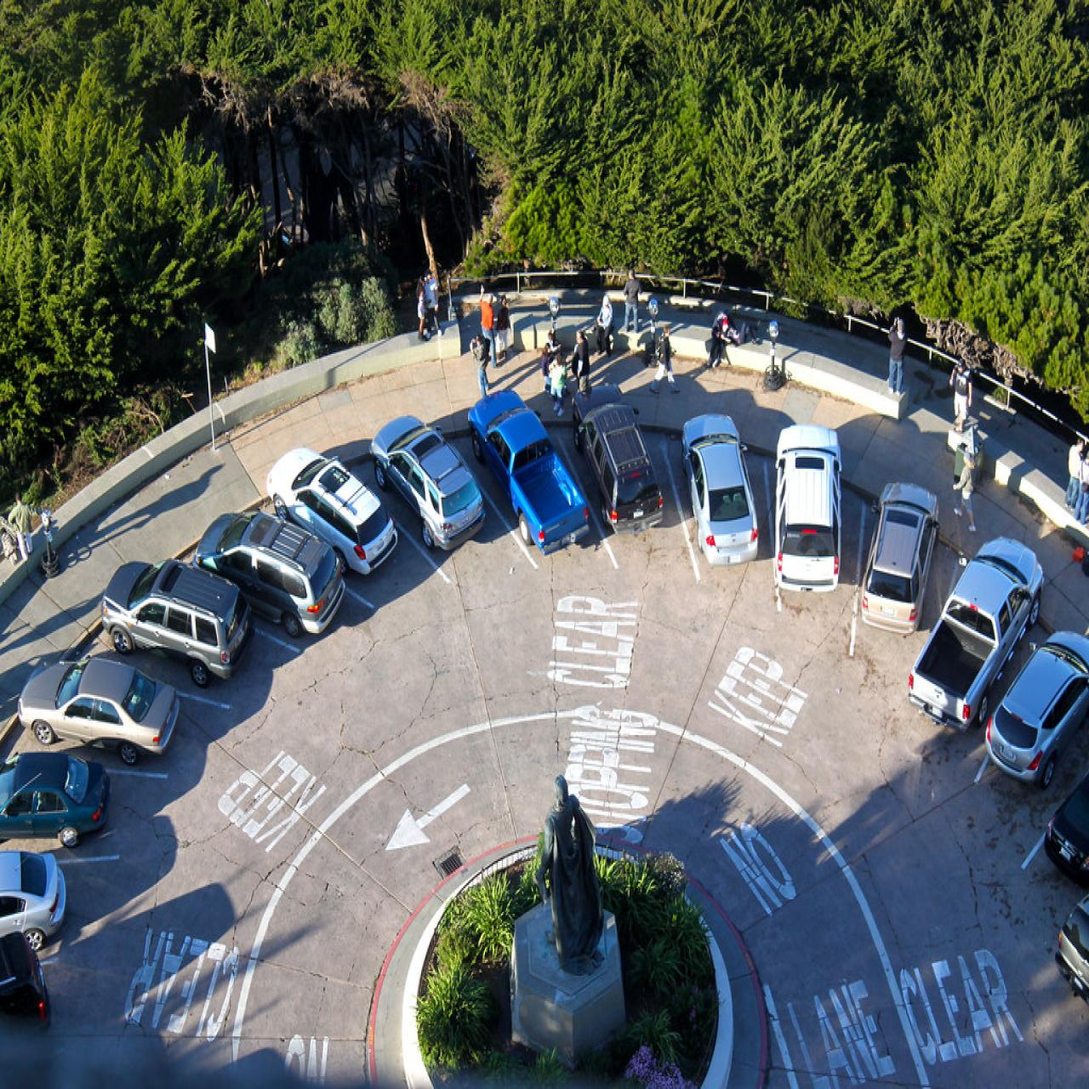cars: (768, 412, 871, 677), (970, 629, 1089, 852), (914, 549, 1026, 780), (278, 455, 418, 619), (114, 573, 285, 706), (373, 422, 503, 596), (20, 653, 202, 771), (583, 405, 684, 604), (680, 405, 768, 633), (851, 494, 936, 717), (482, 410, 583, 585), (206, 508, 335, 643), (0, 754, 126, 855)
